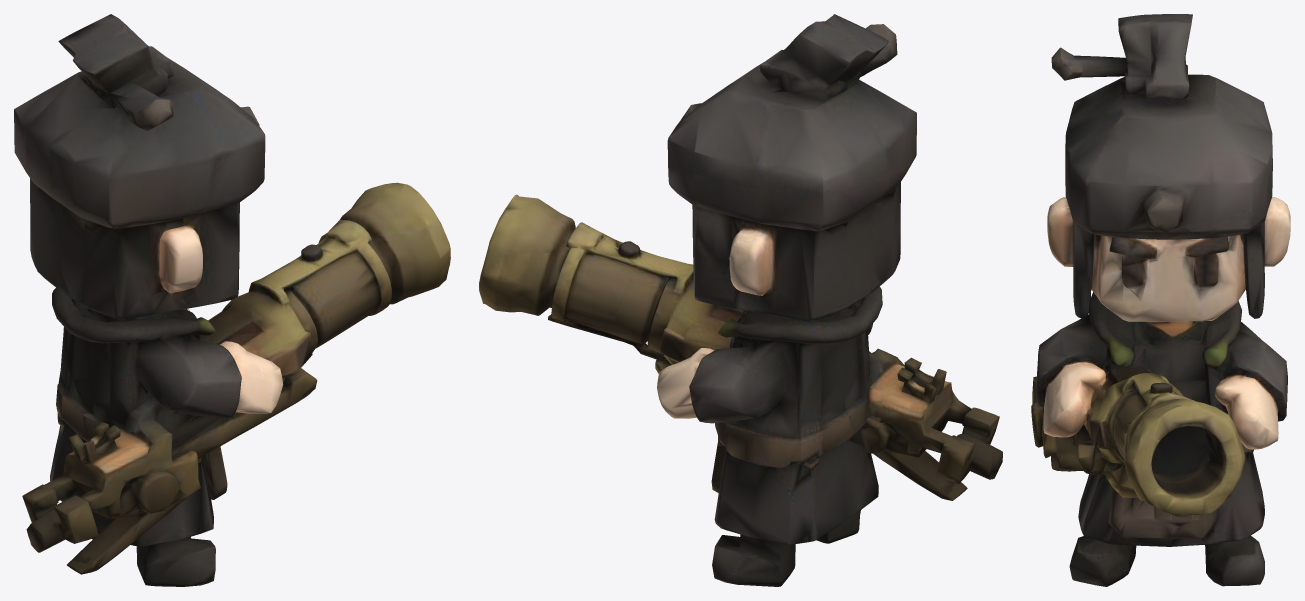
File: cannon.glb
The picture shows the model from 3 angles, left to right: view 1: azimuth 30°, elevation 25°; view 2: azimuth 150°, elevation 25°; view 3: azimuth 270°, elevation 25°; orthographic projection.
Visible parts, largest first — view 1: tripo_node_1014597d-2784-44a6-81b1-3b40882b48c4; view 2: tripo_node_1014597d-2784-44a6-81b1-3b40882b48c4; view 3: tripo_node_1014597d-2784-44a6-81b1-3b40882b48c4.
Boxes of the visible parts, x1=… form: tripo_node_1014597d-2784-44a6-81b1-3b40882b48c4: x1=14, y1=14, x2=450, y2=586; tripo_node_1014597d-2784-44a6-81b1-3b40882b48c4: x1=479, y1=14, x2=1002, y2=586; tripo_node_1014597d-2784-44a6-81b1-3b40882b48c4: x1=1031, y1=14, x2=1290, y2=586.
Bounding box in the file's own units: 0.8849 × 0.9996 × 0.4379.
1 material, 1 textured.
